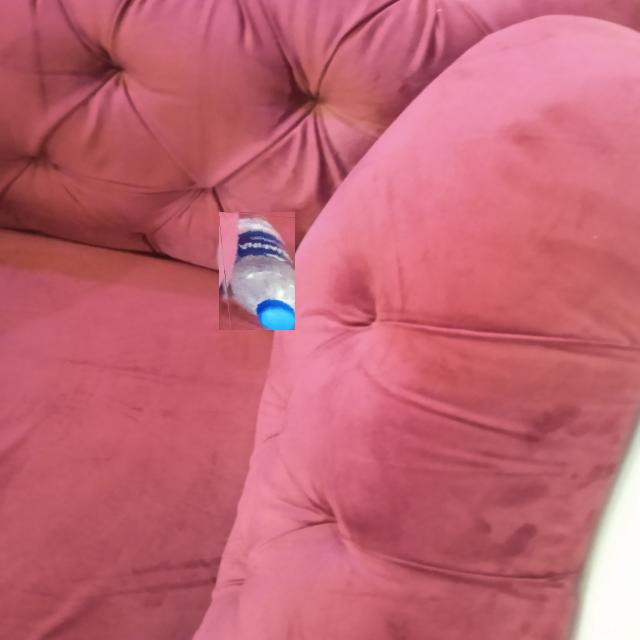Plastic: (218, 211, 295, 330)
